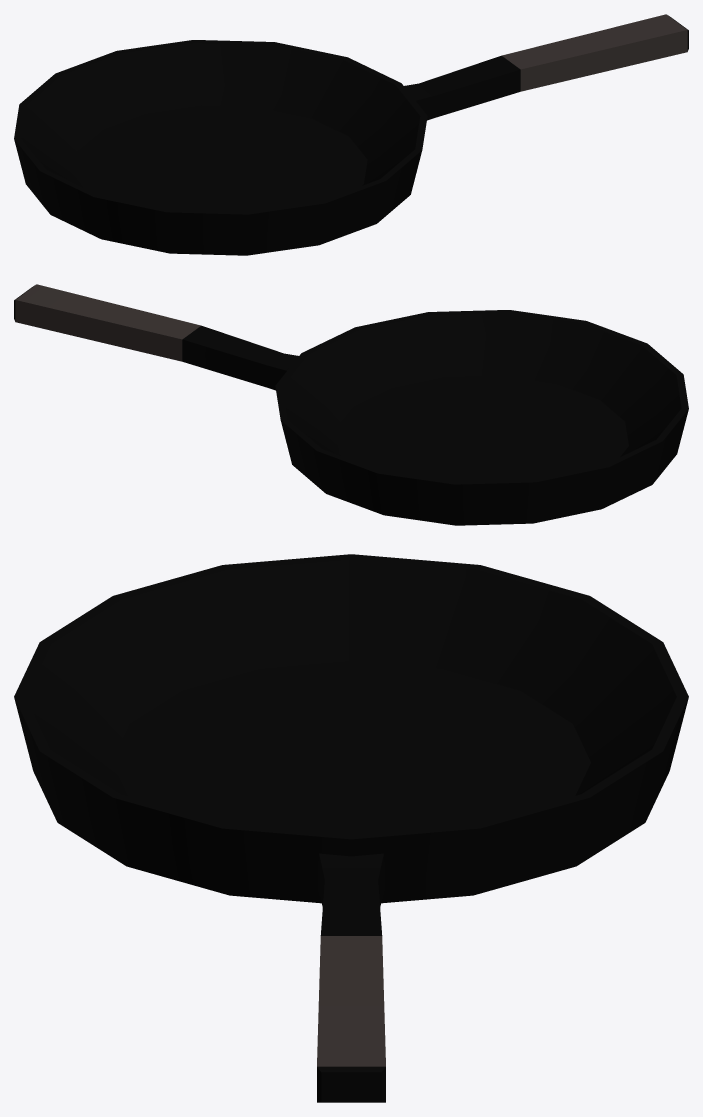
Rendered from LP_pan_2.obj.
3 renders of one model, top to bottom at view 1: azimuth 30°, elevation 25°; view 2: azimuth 150°, elevation 25°; view 3: azimuth 270°, elevation 25°, orthographic. The views are drawn at different scales.
Visible parts, largest first — view 1: LP_pan_2.001; view 2: LP_pan_2.001; view 3: LP_pan_2.001.
Boxes of the visible parts, left/top/right/bottom form: LP_pan_2.001: left=14, top=14, right=688, bottom=255; LP_pan_2.001: left=14, top=284, right=688, bottom=525; LP_pan_2.001: left=14, top=554, right=688, bottom=1102.
Size of the model in its own units: 0.4531 by 0.0312 by 0.256.
